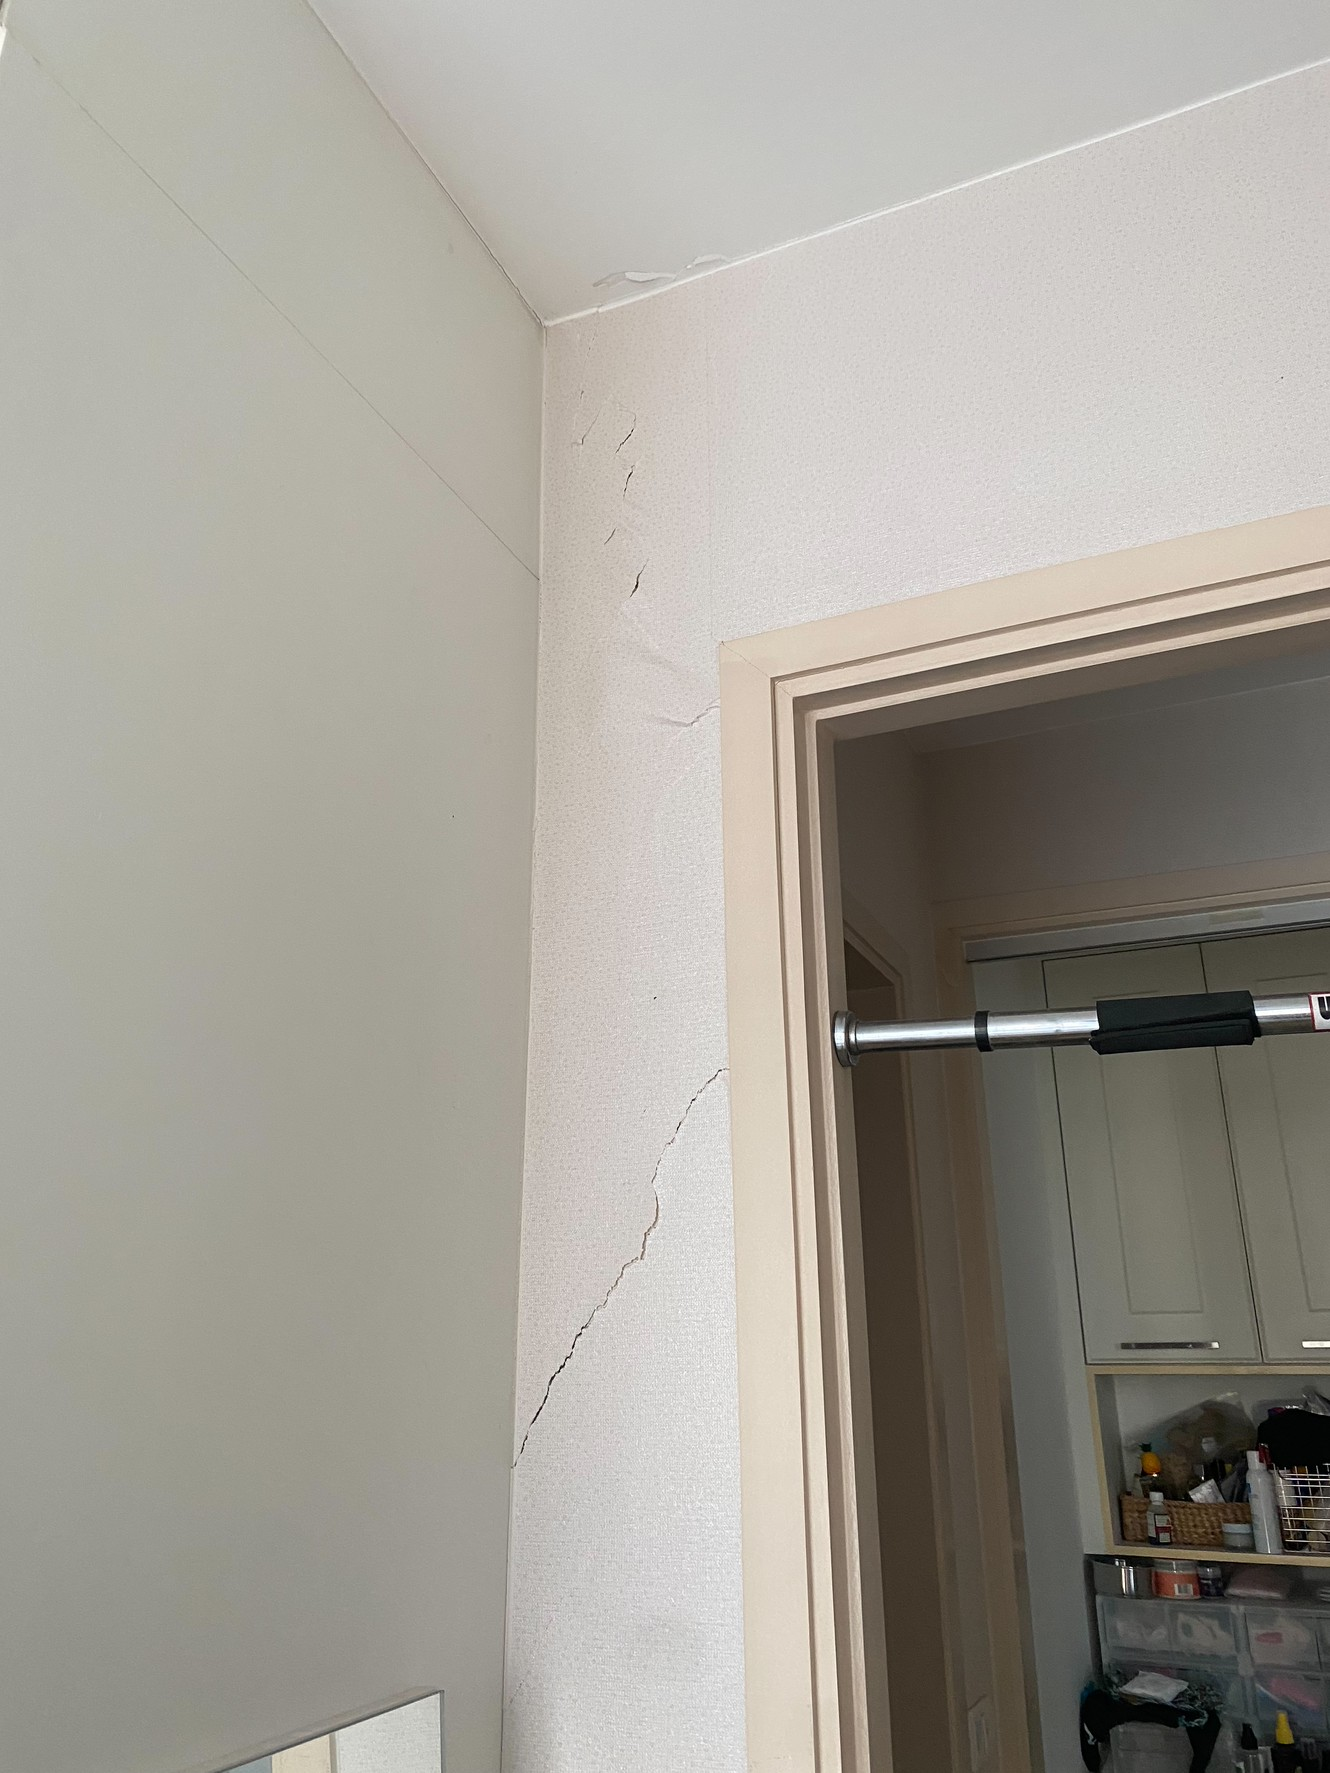Low: (481, 358, 767, 1482)
